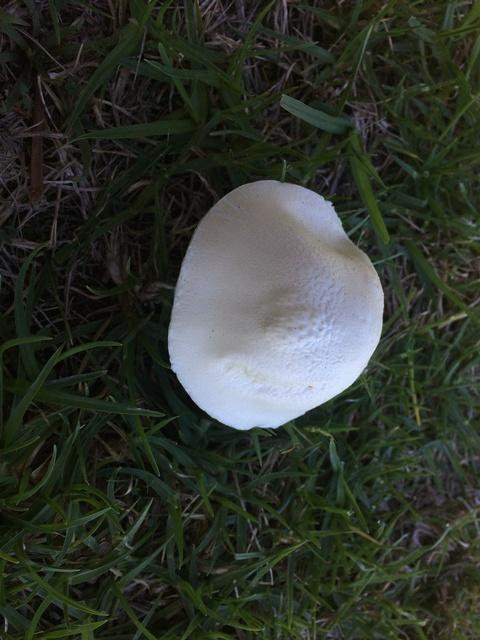Non-edible Mushroom: (165, 178, 385, 431)
